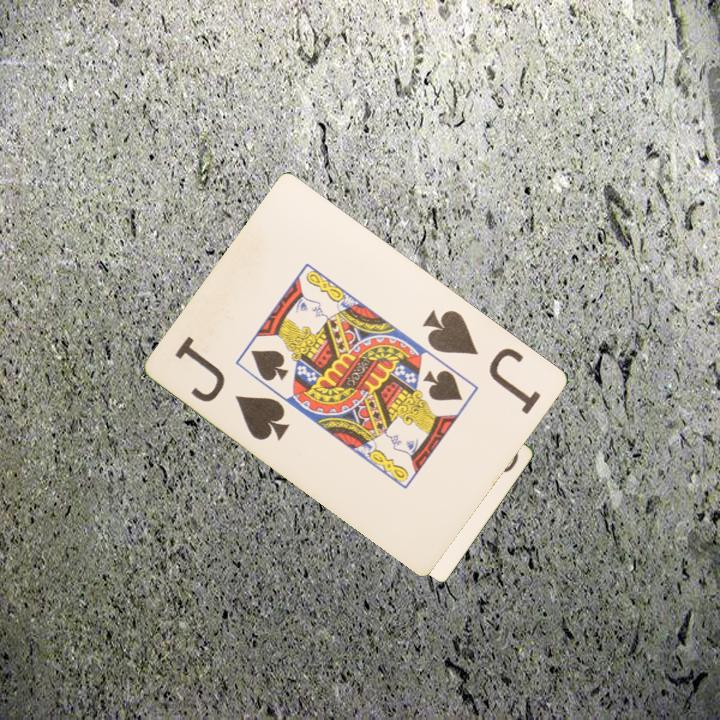Js: (419, 306, 544, 417), (171, 332, 294, 444)
